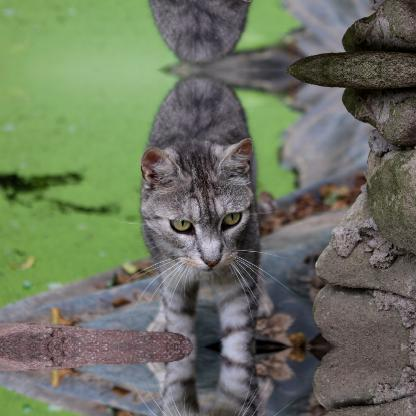Cat: (118, 72, 298, 346), (117, 346, 299, 415), (117, 0, 299, 66)
